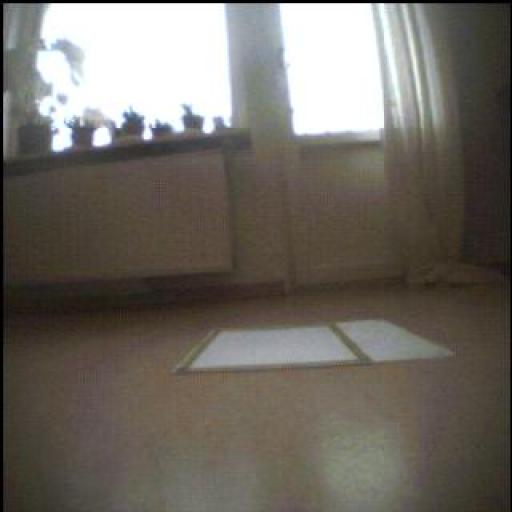Pad: (171, 318, 453, 373)
